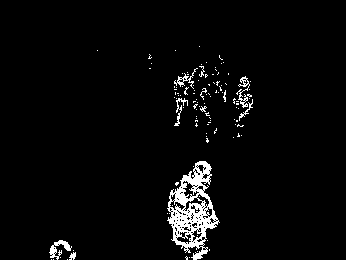person: (165, 158, 222, 260), (230, 73, 255, 143)
